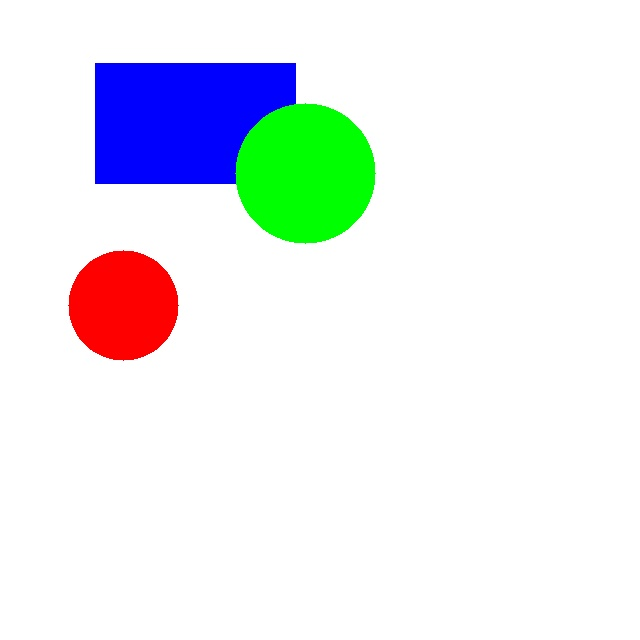cartao: (95, 63, 295, 183)
rosca_externa: (235, 103, 375, 243)
rosca_interna: (68, 250, 178, 360)
